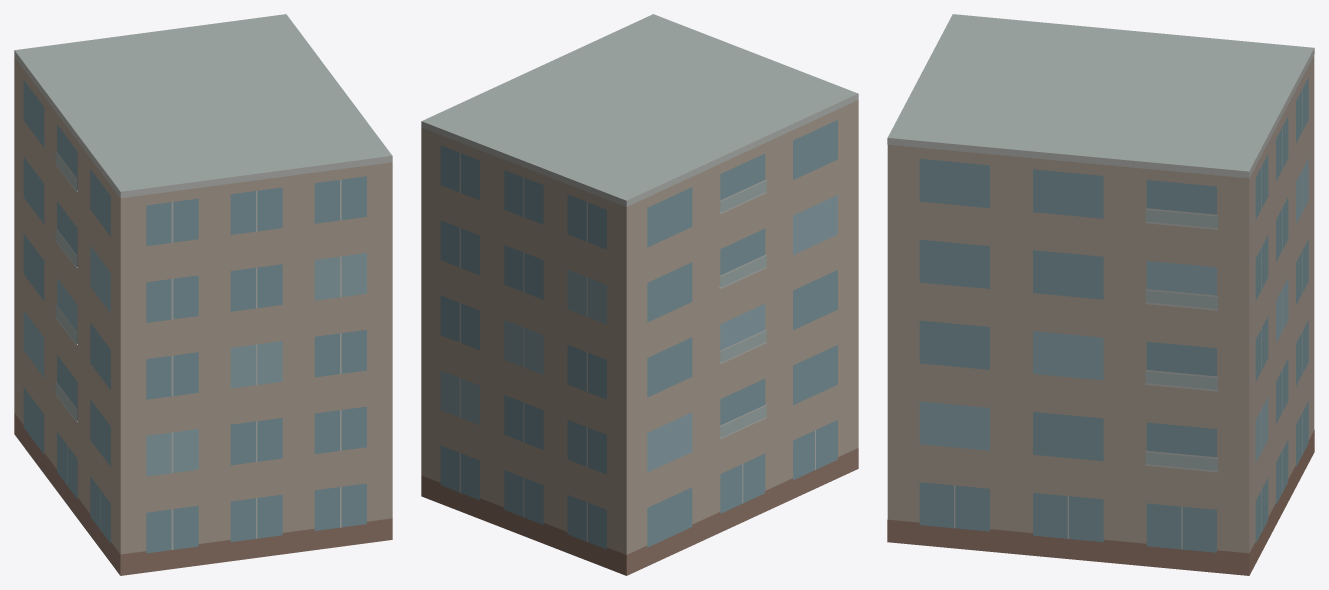
The model's file is survey-upis-32926701.glb.
The picture shows the model from 3 angles, left to right: view 1: azimuth 30°, elevation 25°; view 2: azimuth 150°, elevation 25°; view 3: azimuth 270°, elevation 25°; orthographic projection. The views are drawn at different scales.
Parts seen in each view (by area): view 1: survey-upis-32926701.tmp; view 2: survey-upis-32926701.tmp; view 3: survey-upis-32926701.tmp.
Part boxes in pixels (box(x1,y1,x2,y2)): survey-upis-32926701.tmp: box(14, 14, 392, 575); survey-upis-32926701.tmp: box(421, 14, 858, 575); survey-upis-32926701.tmp: box(887, 14, 1314, 575).
Size of the model in its own units: 12.17 by 14.55 by 13.94.
